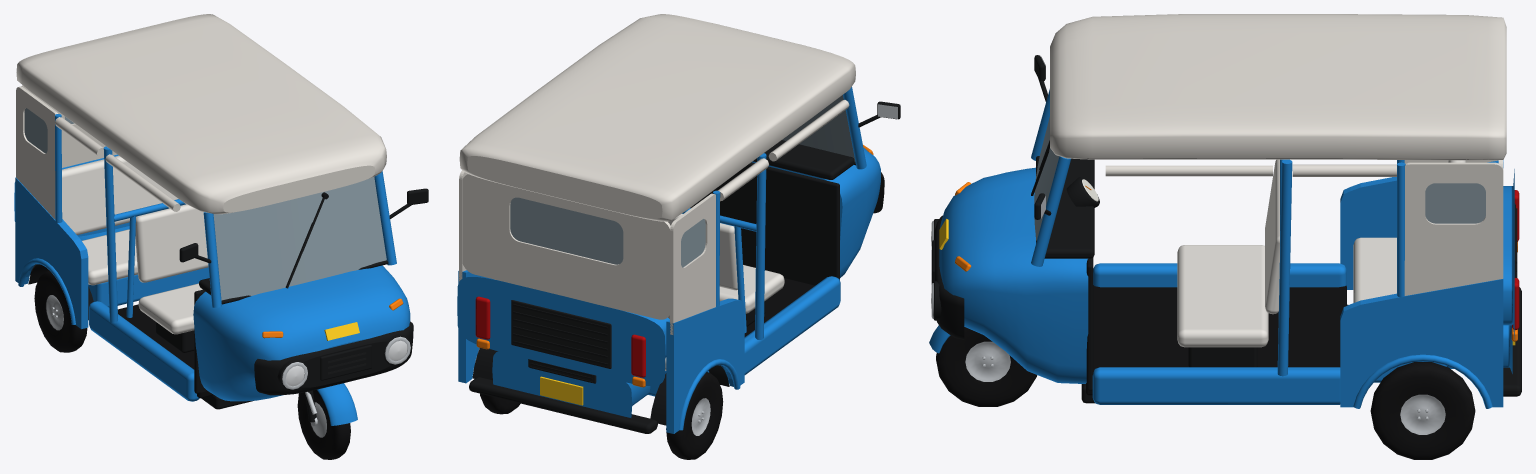
File: BajajRE.obj
The picture shows the model from 3 angles, left to right: view 1: azimuth 30°, elevation 25°; view 2: azimuth 150°, elevation 25°; view 3: azimuth 270°, elevation 25°; orthographic projection. The views are drawn at different scales.
Parts seen in each view (by area): view 1: Caisse_Bache, Caisse_Carrosserie, Caisse_Vitre, Caisse_Siege, Caisse_Plastique_Noir, Roue_ARD_Pneu, Roue_AV_Pneu, Fourche_Carrosserie, Caisse_Tapis, Caisse_Chrome, Roue_ARD_Jante; view 2: Caisse_Bache, Caisse_Carrosserie, Caisse_Plastique_Noir, Caisse_Vitre, Caisse_Grille, Roue_ARD_Pneu, Caisse_Siege, Caisse_Tapis, Plaque_AR, Feu_ARG, Feu_ARD, Roue_ARD_Jante (+1 smaller); view 3: Caisse_Bache, Caisse_Carrosserie, Caisse_Siege, Caisse_Tapis, Caisse_Plastique_Noir, Roue_ARG_Pneu, Roue_AV_Pneu, Caisse_Vitre, Roue_ARG_Jante, Roue_AV_Jante.
Part boxes in pixels (x1=…): Caisse_Bache: x1=16, y1=14, x2=386, y2=219; Caisse_Carrosserie: x1=14, y1=114, x2=410, y2=401; Caisse_Vitre: x1=24, y1=108, x2=386, y2=300; Caisse_Siege: x1=62, y1=156, x2=208, y2=334; Caisse_Plastique_Noir: x1=28, y1=188, x2=428, y2=409; Roue_ARD_Pneu: x1=34, y1=270, x2=87, y2=352; Roue_AV_Pneu: x1=297, y1=390, x2=350, y2=459; Fourche_Carrosserie: x1=317, y1=383, x2=357, y2=425; Caisse_Tapis: x1=117, y1=304, x2=213, y2=398; Caisse_Chrome: x1=179, y1=248, x2=410, y2=389; Roue_ARD_Jante: x1=46, y1=295, x2=63, y2=330; Caisse_Bache: x1=459, y1=14, x2=855, y2=334; Caisse_Carrosserie: x1=457, y1=87, x2=880, y2=433; Caisse_Plastique_Noir: x1=469, y1=101, x2=900, y2=433; Caisse_Vitre: x1=510, y1=95, x2=855, y2=267; Caisse_Grille: x1=511, y1=300, x2=611, y2=383; Roue_ARD_Pneu: x1=666, y1=372, x2=723, y2=459; Caisse_Siege: x1=495, y1=214, x2=784, y2=370; Caisse_Tapis: x1=721, y1=278, x2=814, y2=365; Plaque_AR: x1=540, y1=376, x2=583, y2=405; Feu_ARG: x1=475, y1=296, x2=490, y2=339; Feu_ARD: x1=631, y1=334, x2=645, y2=377; Roue_ARD_Jante: x1=691, y1=398, x2=710, y2=435; Caisse_Bache: x1=1050, y1=14, x2=1506, y2=295; Caisse_Carrosserie: x1=939, y1=89, x2=1514, y2=408; Caisse_Siege: x1=1177, y1=159, x2=1465, y2=347; Caisse_Tapis: x1=1086, y1=285, x2=1346, y2=395; Caisse_Plastique_Noir: x1=932, y1=55, x2=1521, y2=403; Roue_ARG_Pneu: x1=1370, y1=362, x2=1475, y2=459; Roue_AV_Pneu: x1=936, y1=327, x2=1037, y2=406; Caisse_Vitre: x1=1034, y1=117, x2=1485, y2=240; Roue_ARG_Jante: x1=1400, y1=394, x2=1445, y2=434; Roue_AV_Jante: x1=965, y1=341, x2=1010, y2=381.
Bounding box in the file's own units: 1.63 × 1.71 × 2.73.
